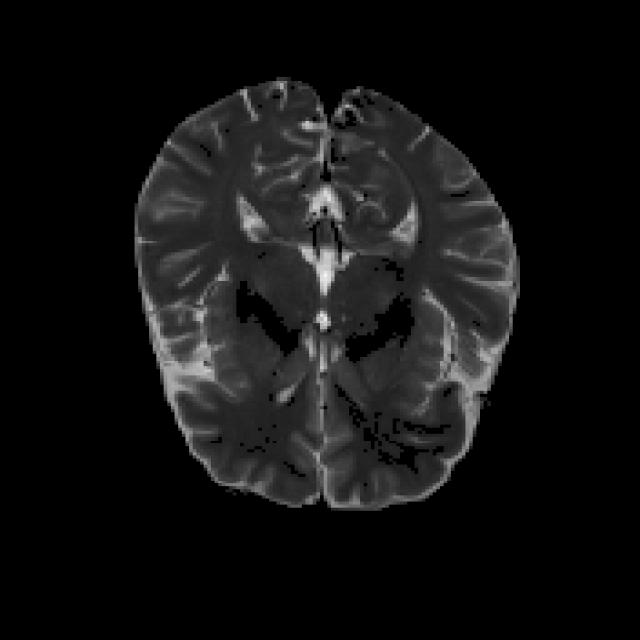CONTROL: (131, 74, 520, 511)
